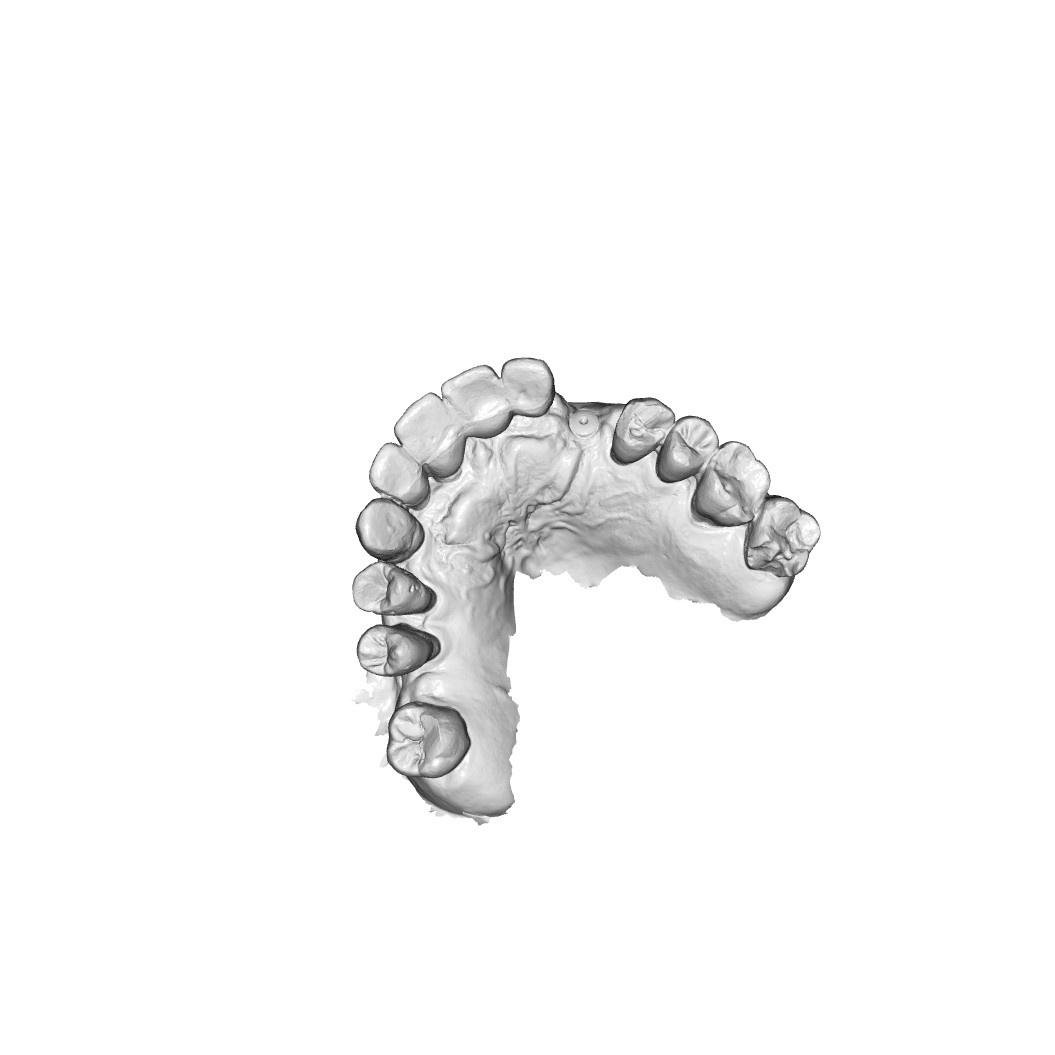canine: (355, 502, 427, 561)
implant: (569, 404, 600, 437)
incisor: (396, 396, 460, 468), (366, 446, 430, 505), (447, 368, 506, 430), (501, 354, 552, 419)
molar: (384, 700, 466, 779), (747, 497, 819, 578), (702, 448, 772, 520)
premolar: (351, 566, 433, 619), (355, 623, 438, 675), (616, 395, 675, 451), (665, 419, 719, 469)
